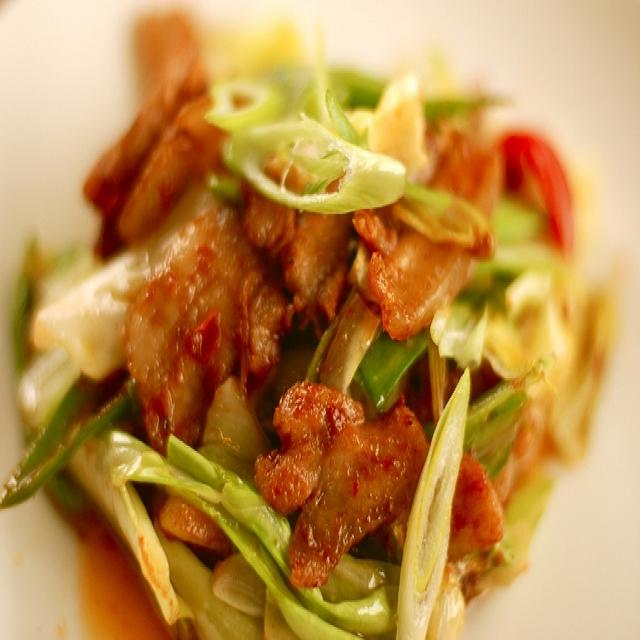猪肉菜式: (14, 29, 608, 628)
